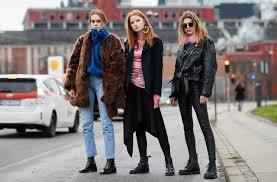Person: (56, 5, 131, 175), (168, 9, 230, 179), (116, 8, 177, 177)
